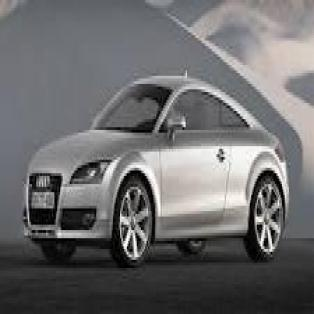Auto: (22, 71, 288, 263)
